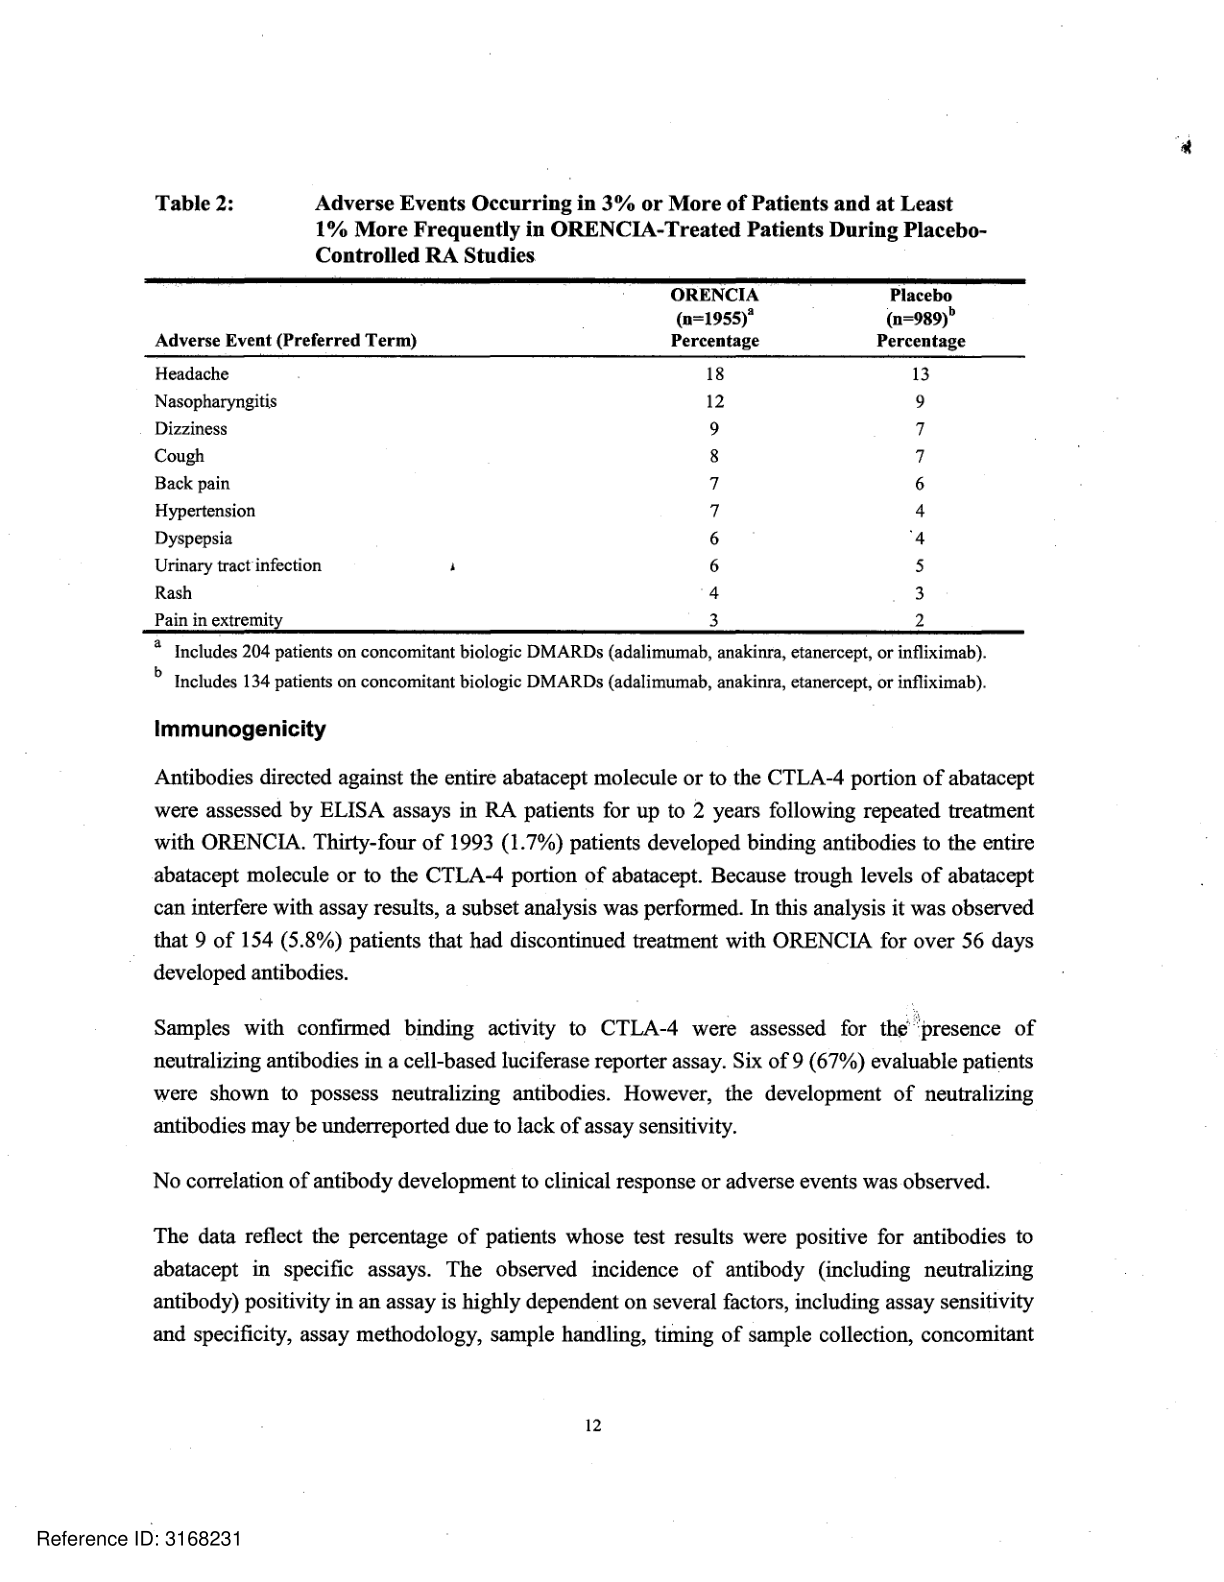partial_lined: (141, 277, 1027, 636)
